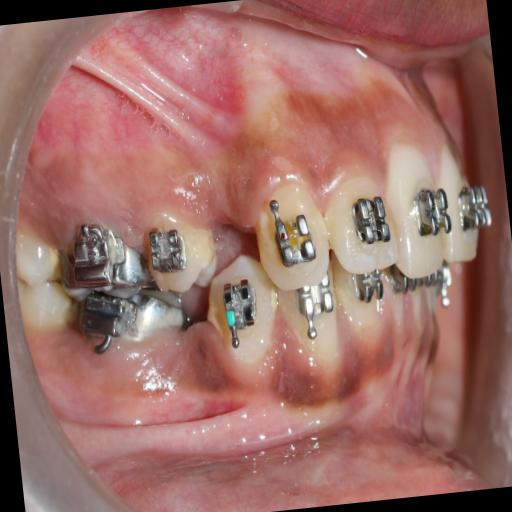correct_brace: (146, 206, 222, 296), (406, 179, 454, 244), (268, 213, 318, 269), (348, 189, 391, 250)
incorrect_brace: (322, 165, 398, 273), (146, 219, 188, 280)
